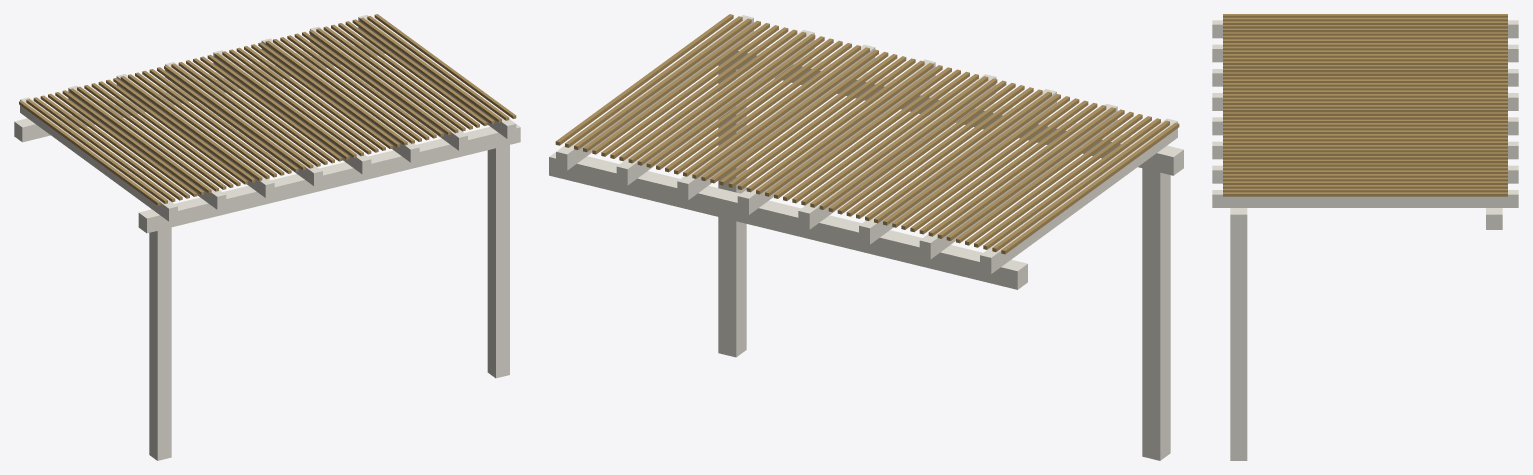
Rendered from pergola.glb.
The picture shows the model from 3 angles, left to right: view 1: azimuth 30°, elevation 25°; view 2: azimuth 150°, elevation 25°; view 3: azimuth 270°, elevation 25°; orthographic projection. The views are drawn at different scales.
Parts seen in each view (by area): view 1: white2, white0, white1, white4, white3, white7, white10, white8, white9, white11, white6, white5 (+50 smaller); view 2: white3, white0, white1, white4, white2, white10, white7, white9, white5, white8, white6, white11 (+50 smaller); view 3: white1, white11, reed12_2, reed12_5, reed12_7, reed12_10, reed12_13, reed12_16, reed12_21, reed12_24, reed12_27, reed12_32 (+49 smaller).
Boxes of the visible parts, box(x1,y1,x2,y2) form: white2: box(138, 124, 520, 233); white0: box(149, 225, 171, 460); white1: box(487, 142, 509, 378); white4: box(20, 97, 177, 221); white3: box(14, 36, 384, 142); white7: box(165, 62, 322, 186); white10: box(310, 26, 467, 150); white8: box(213, 50, 371, 174); white9: box(261, 38, 419, 162); white11: box(358, 15, 516, 138); white6: box(116, 74, 274, 197); white5: box(68, 85, 226, 209); white3: box(549, 152, 1027, 289); white0: box(1142, 168, 1170, 460); white1: box(718, 62, 746, 357); white4: box(980, 118, 1177, 273); white2: box(719, 43, 1183, 175); white10: box(616, 30, 814, 185); white7: box(798, 74, 996, 229); white9: box(677, 44, 875, 200); white5: box(919, 103, 1117, 259); white8: box(737, 59, 935, 214); white6: box(859, 89, 1056, 244); white11: box(556, 15, 753, 170); white1: box(1230, 230, 1247, 460); white11: box(1212, 190, 1518, 207); reed12_2: box(1223, 17, 1507, 21); reed12_5: box(1223, 28, 1507, 32); reed12_7: box(1223, 35, 1507, 39); reed12_10: box(1223, 46, 1507, 50); reed12_13: box(1223, 57, 1507, 61); reed12_16: box(1223, 68, 1507, 72); reed12_21: box(1223, 86, 1507, 90); reed12_24: box(1223, 97, 1507, 101); reed12_27: box(1223, 108, 1507, 112); reed12_32: box(1223, 126, 1507, 130).
Bounding box in the file's own units: 4.2 × 2.81 × 2.9.
